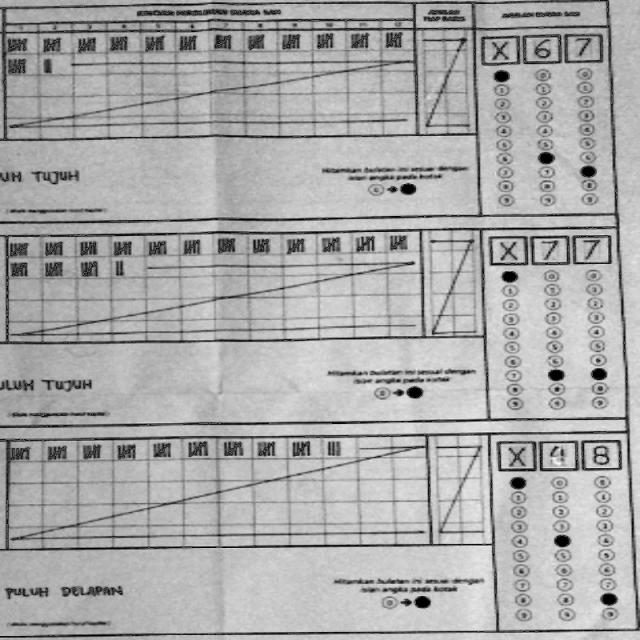Suara: (492, 435, 622, 473), (476, 30, 604, 64), (486, 233, 614, 264)
